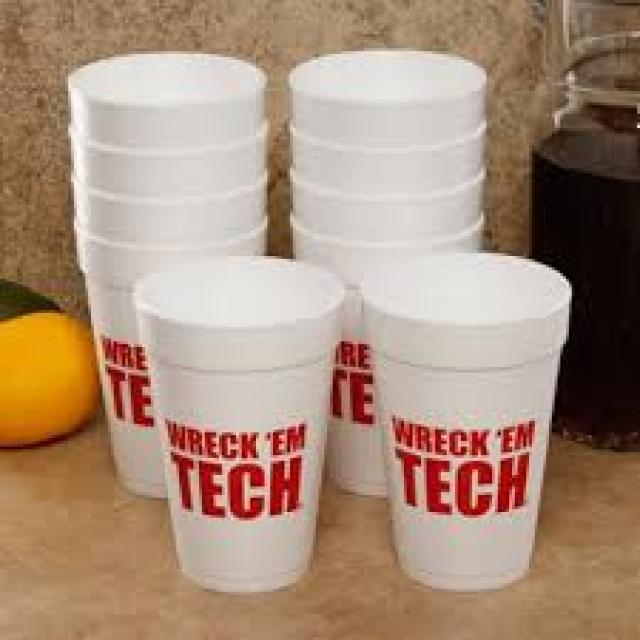organic waste: (532, 117, 637, 452), (0, 307, 94, 452), (0, 273, 54, 324)
